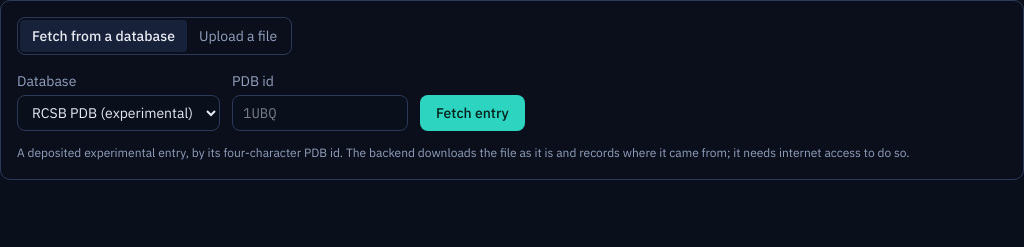
Test: AddStructure › shows the backend's reason when an entry cannot be fetched
Type "9zzz" into the field labelled "PDB id".
click(320, 113); type("9zzz")  # box x1=232 y1=95 x2=408 y2=131
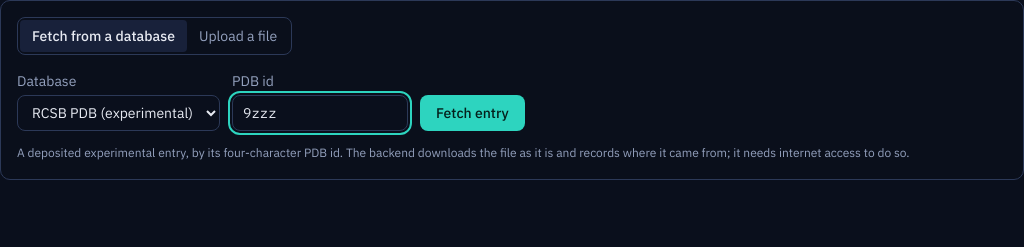
Click the button "Fetch entry".
click(472, 113)  # box x1=420 y1=95 x2=525 y2=131
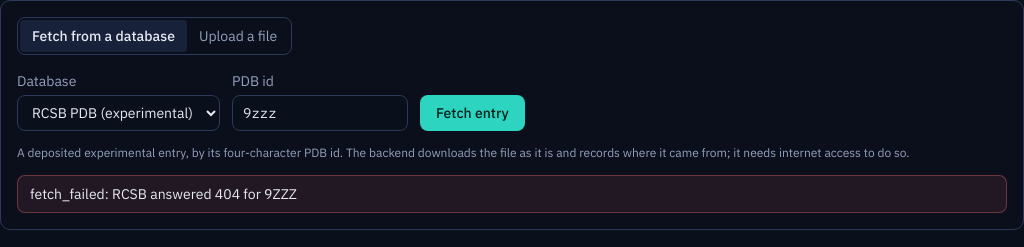
Expected: the text "fetch_failed: RCSB answered 404 for 9ZZZ" is shown, x1=17 y1=174 x2=1007 y2=212
